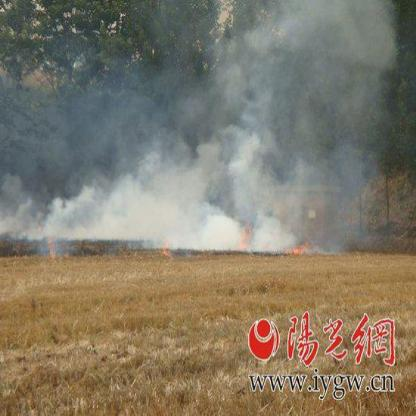fire: (280, 235, 314, 258), (234, 218, 252, 252), (160, 238, 174, 260), (46, 236, 58, 258)
smoke: (101, 148, 205, 236), (248, 192, 296, 249), (48, 184, 92, 236), (221, 130, 257, 184), (199, 208, 237, 242)
